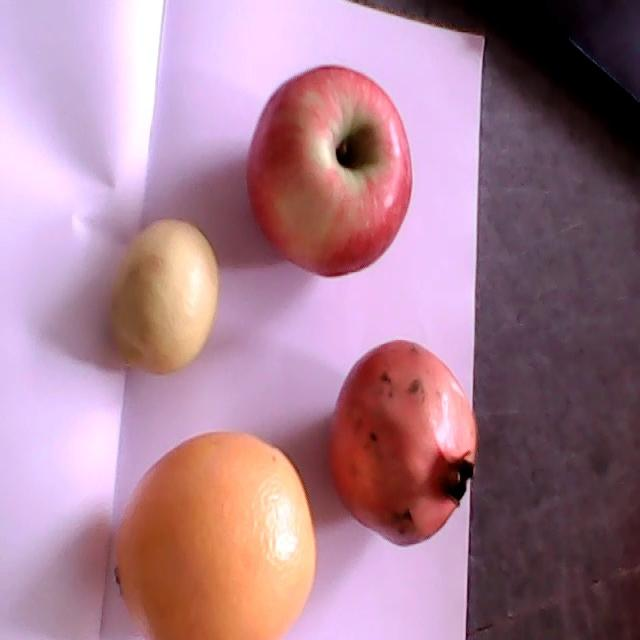apple: (246, 65, 413, 277)
lemon: (107, 215, 219, 375)
orange: (117, 429, 317, 639)
pomegranate: (328, 339, 478, 547)
